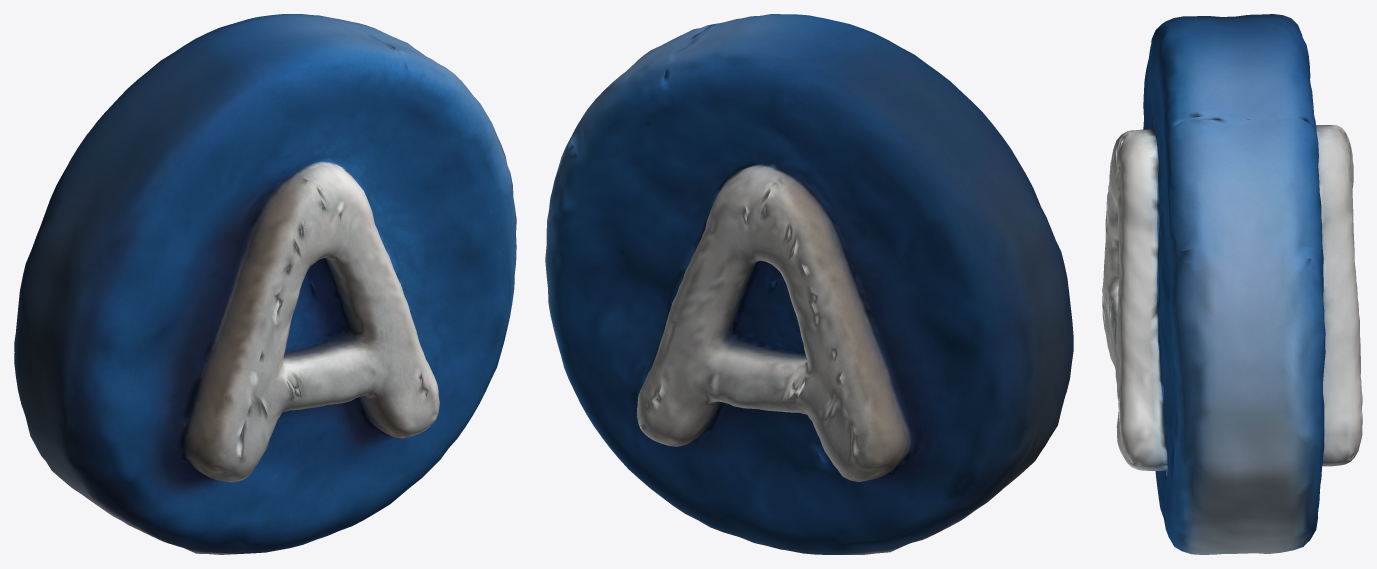
The model's file is Stack 2A - A train.glb.
The picture shows the model from 3 angles, left to right: view 1: azimuth 30°, elevation 25°; view 2: azimuth 150°, elevation 25°; view 3: azimuth 270°, elevation 25°; orthographic projection.
Visible parts, largest first — view 1: Stack 2A - A train · mesh; view 2: Stack 2A - A train · mesh; view 3: Stack 2A - A train · mesh.
Boxes of the visible parts, left/top/right/bottom form: Stack 2A - A train · mesh: left=14, top=14, right=516, bottom=554; Stack 2A - A train · mesh: left=545, top=14, right=1073, bottom=554; Stack 2A - A train · mesh: left=1102, top=14, right=1362, bottom=554.
Bounding box in the file's own units: 1 × 0.9927 × 0.4763.
1 material, 1 textured.
